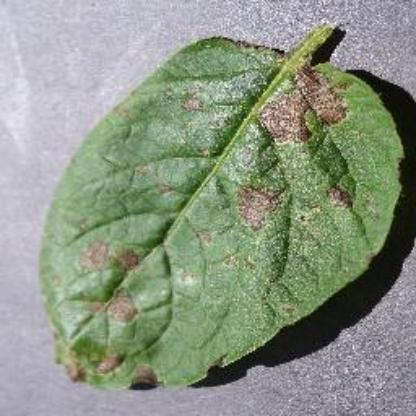Early-Blight: (44, 20, 404, 390)
